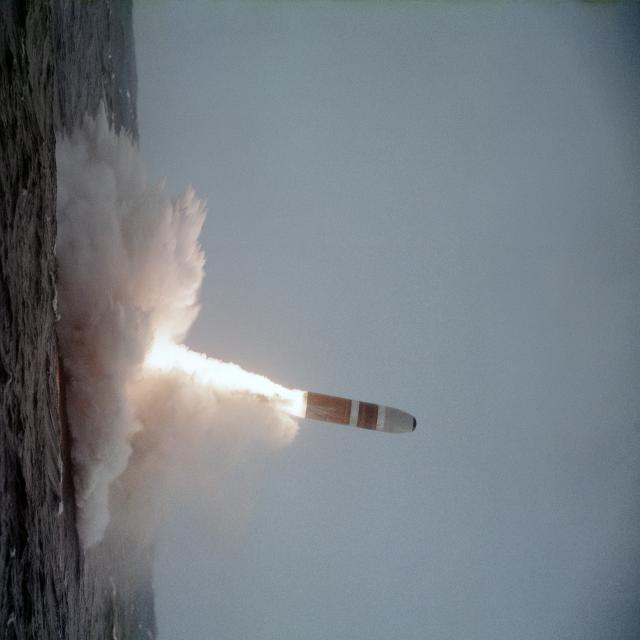missile: (297, 384, 423, 454)
